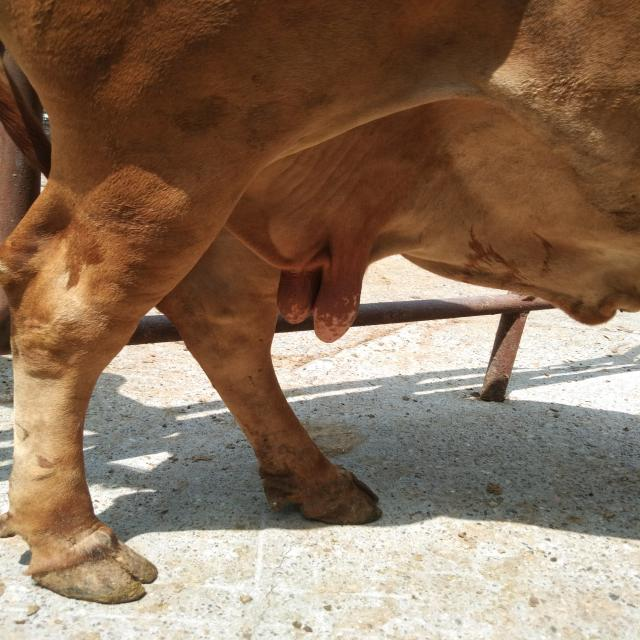Hoof: (25, 530, 159, 604), (260, 463, 383, 526)
